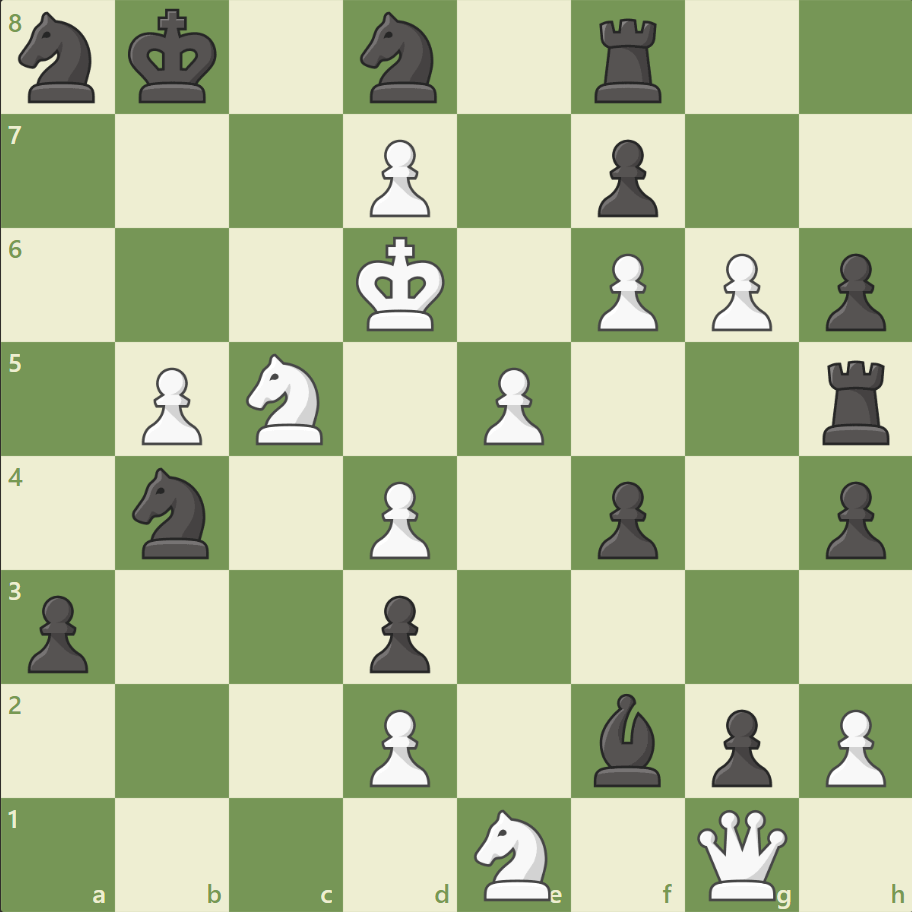K: (351, 231, 451, 339)
N: (238, 348, 335, 450), (465, 802, 562, 904)
P: (701, 246, 776, 337), (133, 359, 208, 450), (474, 359, 549, 450), (361, 132, 435, 223), (588, 246, 662, 337), (361, 473, 435, 564), (361, 700, 435, 791), (815, 700, 889, 791)
Q: (691, 804, 790, 903)
b: (585, 687, 669, 790)
k: (124, 4, 224, 112)
n: (351, 7, 449, 110), (124, 461, 222, 564), (11, 7, 108, 110)
p: (20, 586, 95, 677), (701, 700, 776, 791), (588, 132, 662, 223), (815, 246, 889, 337), (588, 473, 662, 564), (815, 473, 889, 564), (361, 586, 435, 677)
r: (587, 12, 670, 109), (814, 352, 897, 449)
